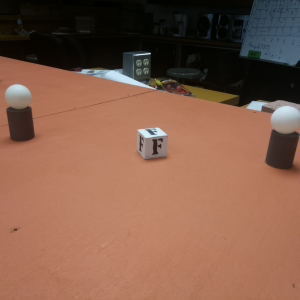obstacle: (266, 105, 300, 169), (4, 85, 36, 141)
